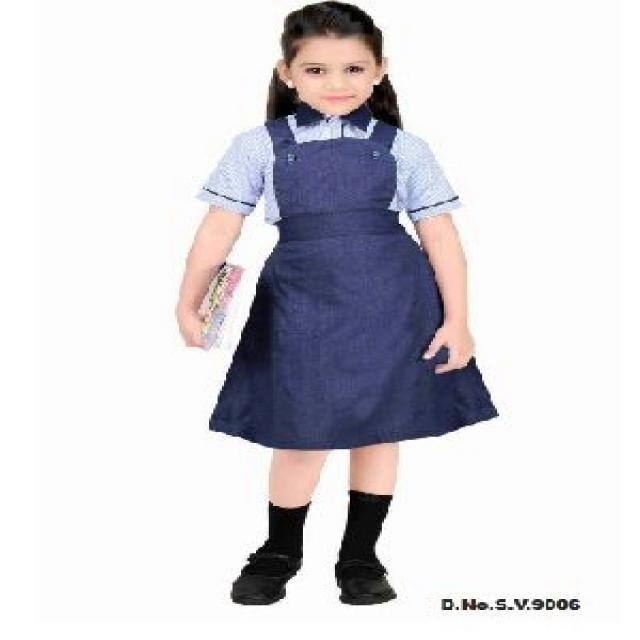child: (113, 0, 538, 640)
